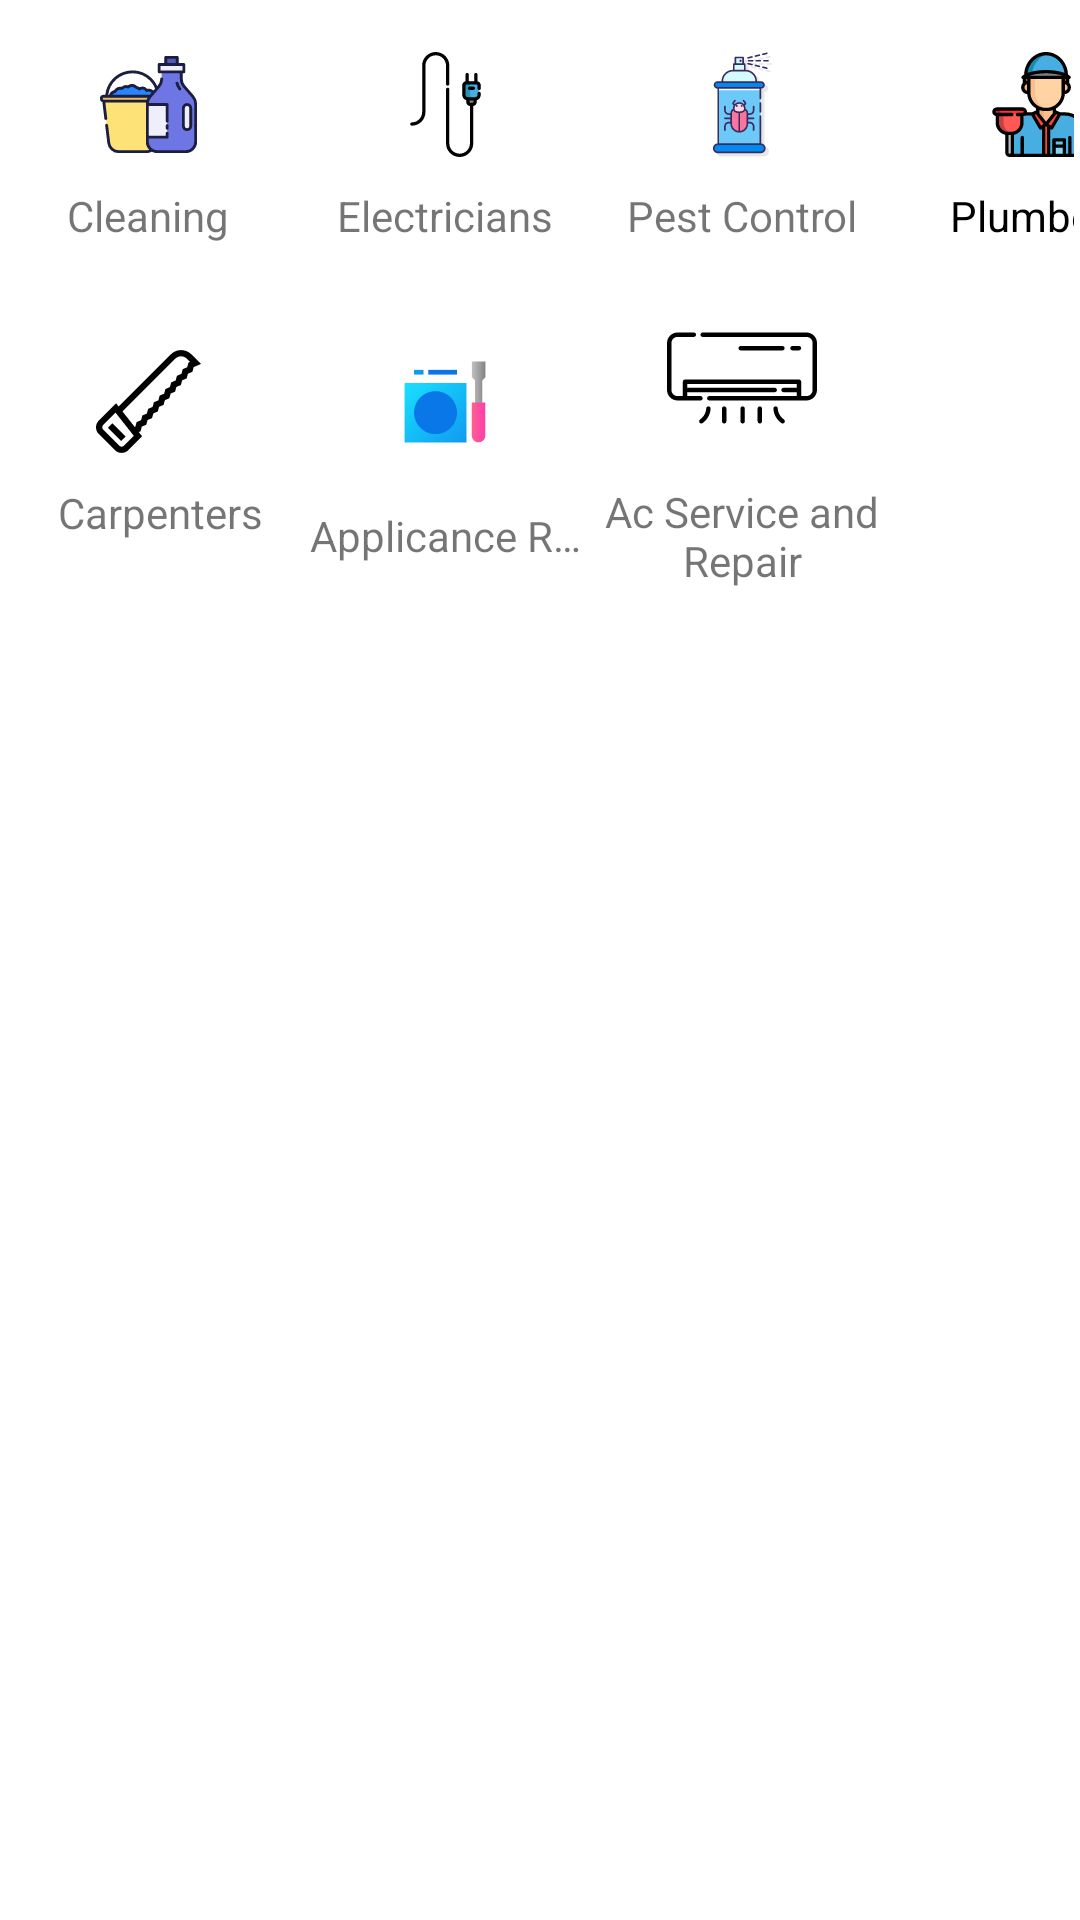

Where to tap for icons on this 1080 × 1920 app screen, as point (x, y):
air conditioner: point (742, 378)
hacksaw: point (148, 401)
